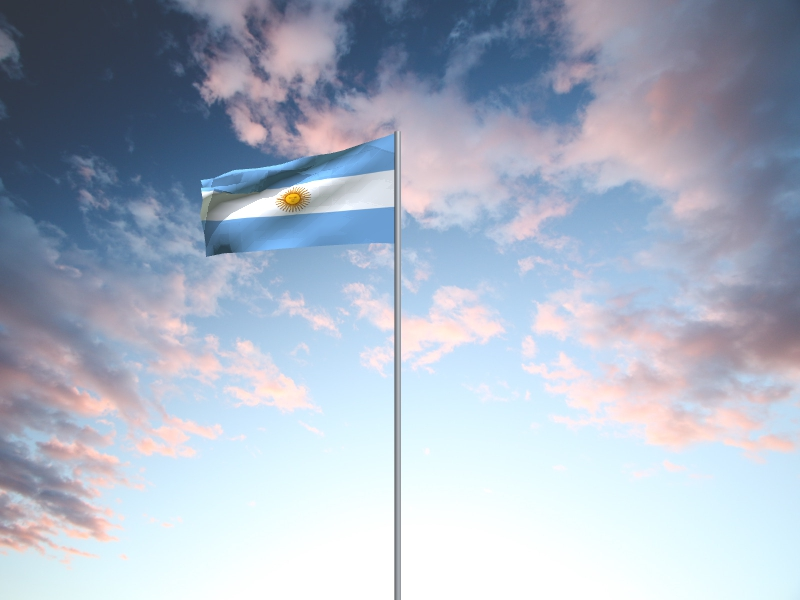ar: (199, 133, 395, 259)
